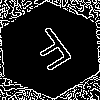F: (25, 25, 82, 80)
